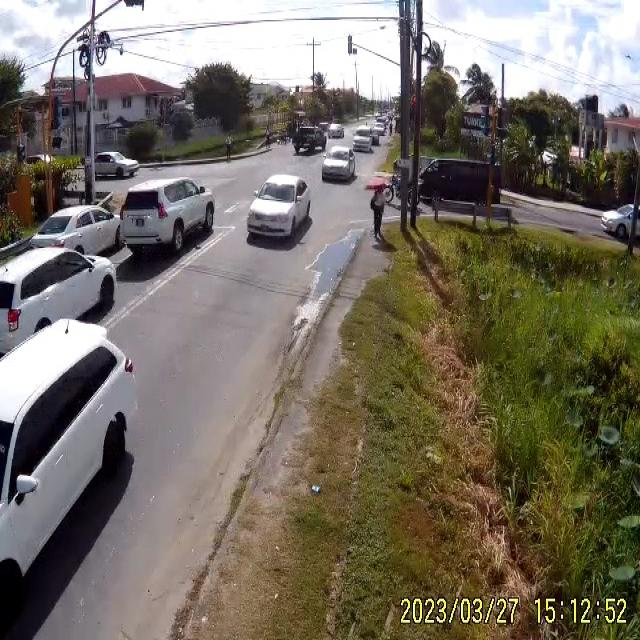car: (0, 242, 119, 374), (118, 178, 216, 254), (416, 157, 503, 218), (30, 204, 126, 256), (247, 172, 313, 245), (600, 203, 639, 242), (96, 152, 141, 180), (321, 146, 356, 182), (292, 126, 326, 155), (353, 130, 374, 155), (327, 124, 344, 139)
person: (369, 188, 386, 239)
